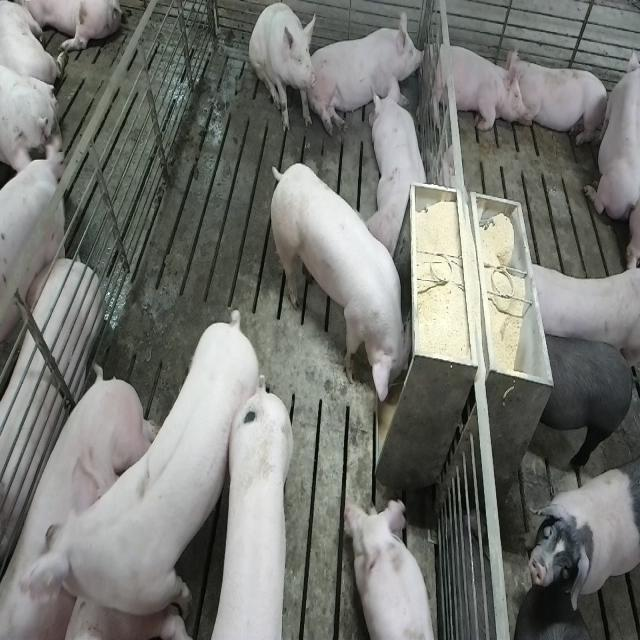Feeding: (266, 162, 409, 406)
Lateral_lying: (0, 369, 157, 640), (0, 259, 103, 611)
Sitting: (249, 2, 318, 136)
Standing: (22, 301, 264, 637), (216, 380, 294, 640), (522, 464, 638, 610), (0, 129, 71, 364), (529, 333, 636, 478), (519, 256, 637, 368)
Sternal_lying: (312, 10, 427, 136), (347, 492, 438, 640), (369, 72, 430, 255), (584, 37, 637, 224), (510, 52, 611, 150), (425, 36, 522, 135)
